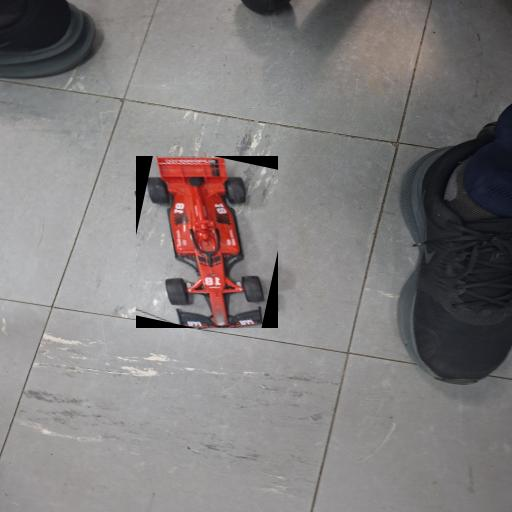carro: (135, 156, 275, 328)
